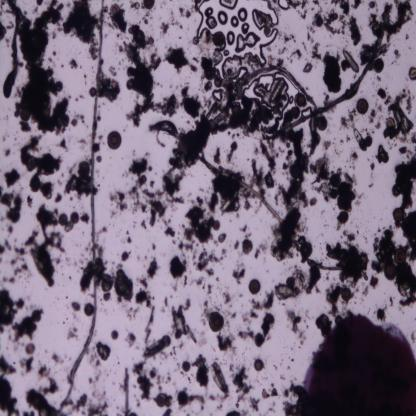Air bubble: (233, 32, 260, 52), (209, 84, 225, 103), (219, 0, 239, 10), (205, 16, 218, 30), (236, 7, 248, 22), (276, 0, 291, 12), (226, 30, 235, 48), (218, 11, 228, 26), (242, 22, 252, 35), (230, 15, 240, 27), (204, 7, 214, 18)
Background material: (17, 0, 70, 136), (199, 50, 276, 131), (107, 155, 179, 239), (117, 42, 178, 121), (262, 133, 316, 210), (176, 202, 219, 275), (30, 204, 64, 285), (324, 231, 370, 289), (63, 0, 99, 62), (308, 134, 338, 207), (274, 261, 326, 300), (195, 275, 238, 320), (364, 1, 412, 40), (95, 256, 132, 306), (21, 136, 63, 178), (271, 206, 304, 258), (246, 292, 277, 347), (175, 86, 215, 124), (169, 296, 198, 344), (314, 0, 356, 33), (232, 363, 259, 413), (392, 92, 416, 148), (0, 352, 21, 415), (0, 233, 30, 277), (0, 283, 24, 336), (133, 255, 157, 308), (393, 153, 416, 207), (12, 305, 46, 341), (25, 388, 66, 416), (320, 49, 344, 96), (164, 43, 198, 74), (80, 385, 112, 416), (208, 359, 231, 401), (140, 333, 172, 363), (370, 230, 394, 270), (35, 360, 59, 397), (120, 365, 137, 415), (144, 124, 182, 146), (134, 361, 154, 402), (402, 207, 416, 264), (335, 106, 363, 134), (64, 173, 93, 200), (248, 160, 274, 190), (0, 189, 22, 224), (339, 172, 357, 212), (166, 257, 188, 289), (192, 352, 210, 388), (340, 45, 362, 72), (100, 72, 120, 101), (326, 280, 344, 312), (312, 314, 336, 337), (78, 260, 94, 294), (285, 307, 302, 338), (214, 330, 237, 352), (223, 137, 241, 163), (348, 16, 364, 45), (372, 304, 392, 326), (259, 385, 282, 404), (3, 167, 20, 191), (67, 320, 82, 344), (281, 149, 296, 173), (377, 87, 394, 108), (375, 142, 389, 167), (40, 179, 54, 202), (97, 341, 111, 362), (117, 246, 136, 261), (345, 148, 360, 166), (298, 0, 313, 18), (240, 237, 254, 255), (162, 226, 176, 244), (48, 350, 66, 364), (233, 267, 247, 284), (20, 356, 34, 373), (69, 113, 84, 128), (160, 22, 174, 38), (371, 113, 382, 132), (255, 244, 268, 260), (56, 136, 68, 152), (368, 274, 380, 290), (124, 332, 136, 347), (66, 59, 82, 70), (176, 9, 192, 20), (213, 148, 222, 166), (389, 50, 399, 65), (0, 21, 7, 42), (69, 300, 82, 311), (1, 143, 12, 156), (240, 219, 248, 234), (80, 212, 90, 224), (407, 68, 416, 80), (54, 193, 62, 206), (98, 156, 102, 164)
Cellulose filter fibre: (60, 0, 106, 406), (274, 22, 390, 134), (232, 65, 319, 110), (5, 1, 22, 101)
Diatom: (208, 308, 224, 332), (107, 130, 122, 150), (393, 247, 409, 264), (300, 241, 315, 259), (384, 263, 397, 282), (294, 94, 309, 108), (393, 207, 406, 223), (316, 115, 328, 132), (357, 97, 369, 114), (30, 175, 41, 193), (176, 391, 189, 406), (134, 29, 146, 45), (330, 173, 342, 189), (84, 300, 95, 317), (80, 160, 90, 178), (249, 280, 261, 295), (213, 31, 224, 47), (338, 211, 350, 225), (373, 58, 384, 72), (253, 358, 264, 372), (156, 393, 166, 408), (342, 287, 352, 301), (364, 135, 374, 149), (142, 0, 156, 10), (70, 210, 80, 224), (110, 4, 120, 18), (292, 104, 300, 121), (25, 342, 36, 354), (385, 116, 395, 128), (59, 213, 68, 226), (55, 79, 63, 93), (302, 62, 312, 73), (181, 360, 191, 371), (111, 329, 119, 341), (213, 219, 221, 231), (218, 232, 227, 242), (89, 87, 96, 98)
Microfibre: (178, 130, 306, 262)
Pen: (297, 312, 416, 414)
